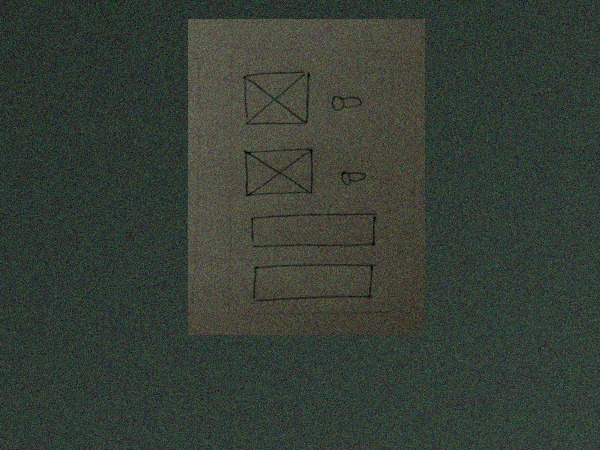image: (239, 67, 315, 132), (239, 146, 317, 199)
switch: (328, 89, 366, 117), (337, 165, 369, 190)
text_input: (247, 209, 378, 252), (246, 261, 379, 302)
